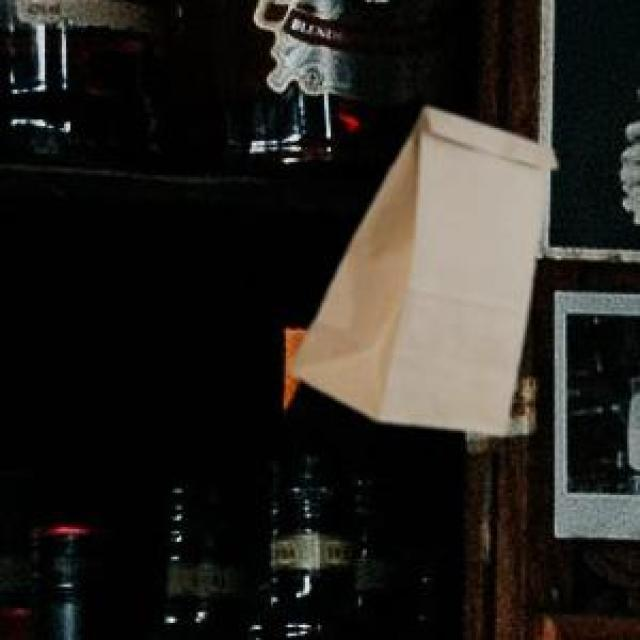paper: (286, 105, 553, 429)
